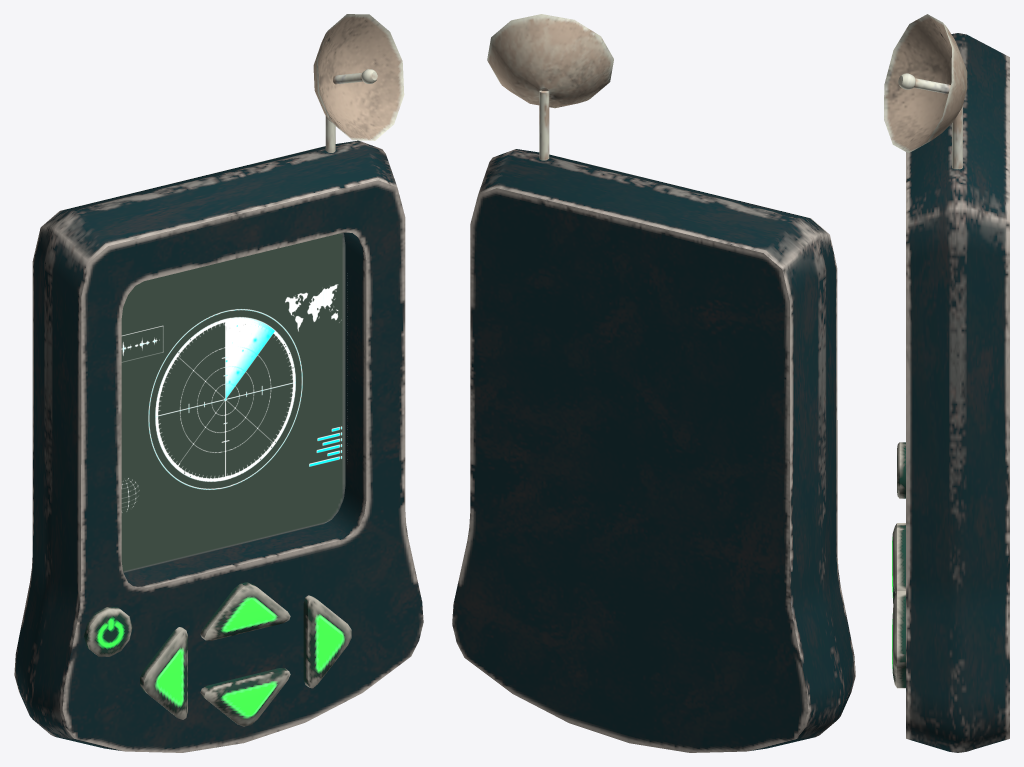
The model's file is Lumières UV.glb.
The picture shows the model from 3 angles, left to right: view 1: azimuth 30°, elevation 25°; view 2: azimuth 150°, elevation 25°; view 3: azimuth 270°, elevation 25°; orthographic projection. The views are drawn at different scales.
Parts seen in each view (by area): view 1: GadgetBase_lo, Sateliet_lo, ImagePlane, Arrow_lo, Arrow_lo.001, Button_lo; view 2: GadgetBase_lo, Sateliet_lo, SatelietSupport_lo; view 3: GadgetBase_lo, Sateliet_lo, Arrow_lo, Arrow_lo.001, SatelietSupport_lo, Button_lo.
Boxes of the visible parts, left/top/right/bottom form: GadgetBase_lo: left=14, top=140, right=423, bottom=752; Sateliet_lo: left=313, top=14, right=404, bottom=140; ImagePlane: left=121, top=284, right=342, bottom=512; Arrow_lo: left=140, top=595, right=351, bottom=719; Arrow_lo.001: left=200, top=582, right=290, bottom=726; Button_lo: left=84, top=607, right=132, bottom=656; GadgetBase_lo: left=452, top=149, right=855, bottom=752; Sateliet_lo: left=487, top=14, right=613, bottom=108; SatelietSupport_lo: left=539, top=90, right=549, bottom=160; GadgetBase_lo: left=906, top=33, right=1009, bottom=752; Sateliet_lo: left=884, top=14, right=967, bottom=152; Arrow_lo: left=892, top=523, right=905, bottom=688; Arrow_lo.001: left=892, top=524, right=905, bottom=593; SatelietSupport_lo: left=952, top=105, right=962, bottom=169; Button_lo: left=897, top=442, right=905, bottom=498.
Bounding box in the file's own units: 0.3047 × 0.5334 × 0.0809.
2 materials, 2 textured.
